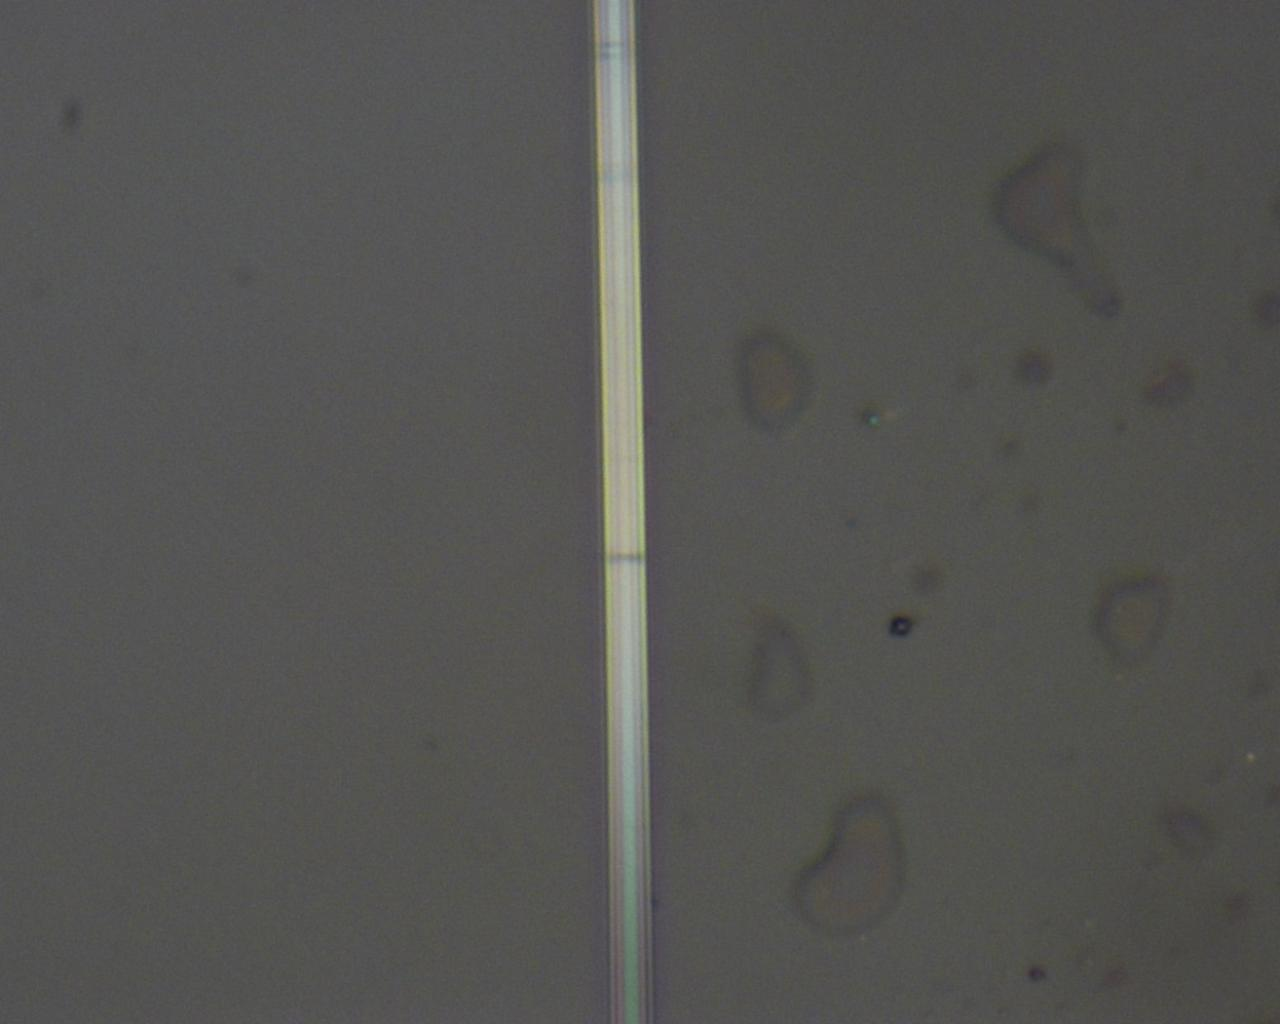fiber: (486, 0, 1276, 261), (87, 0, 486, 474), (1116, 782, 1280, 1024)
